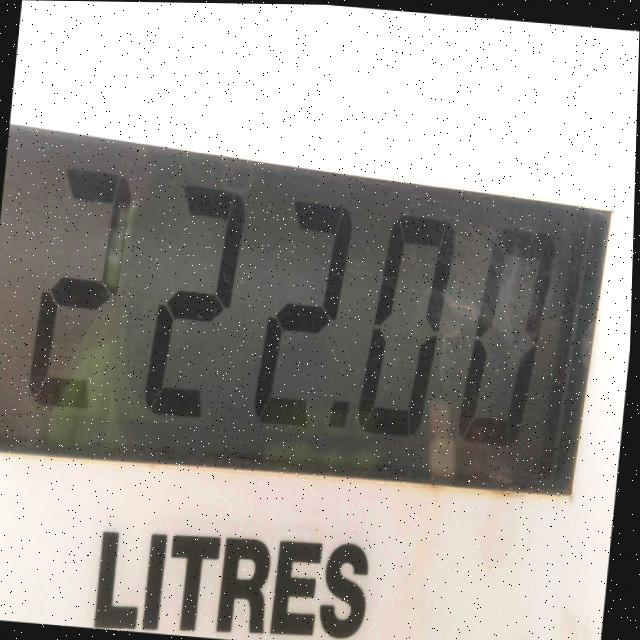.: (310, 373, 368, 452)
0: (346, 191, 477, 455), (454, 216, 563, 469)
2: (136, 150, 277, 434), (17, 147, 160, 419), (252, 161, 376, 450)
